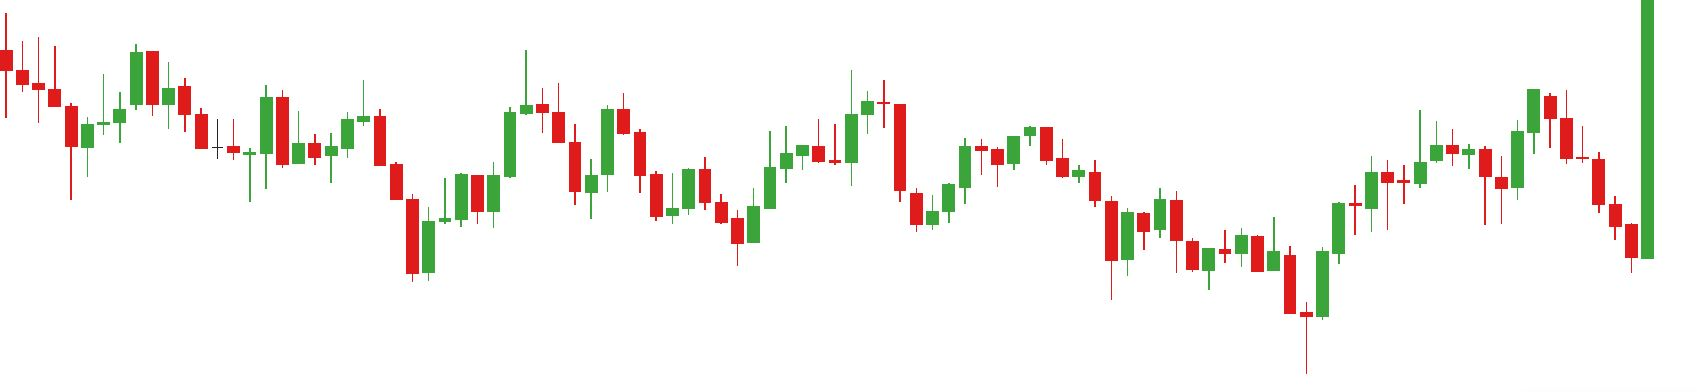buy: (1476, 143, 1658, 274)
sell: (354, 45, 550, 187)
